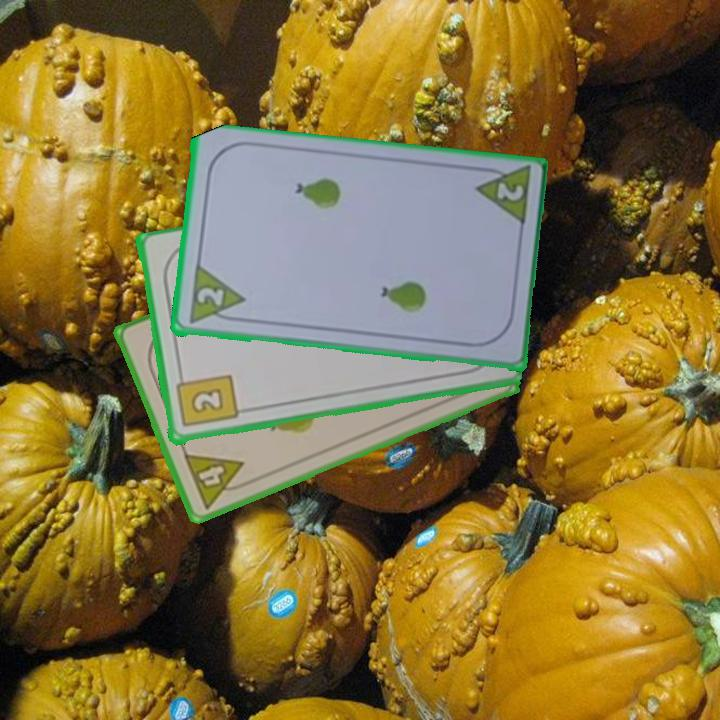2b: (172, 369, 240, 431)
2p: (471, 163, 533, 230), (185, 263, 247, 327)
4p: (180, 450, 254, 512)
